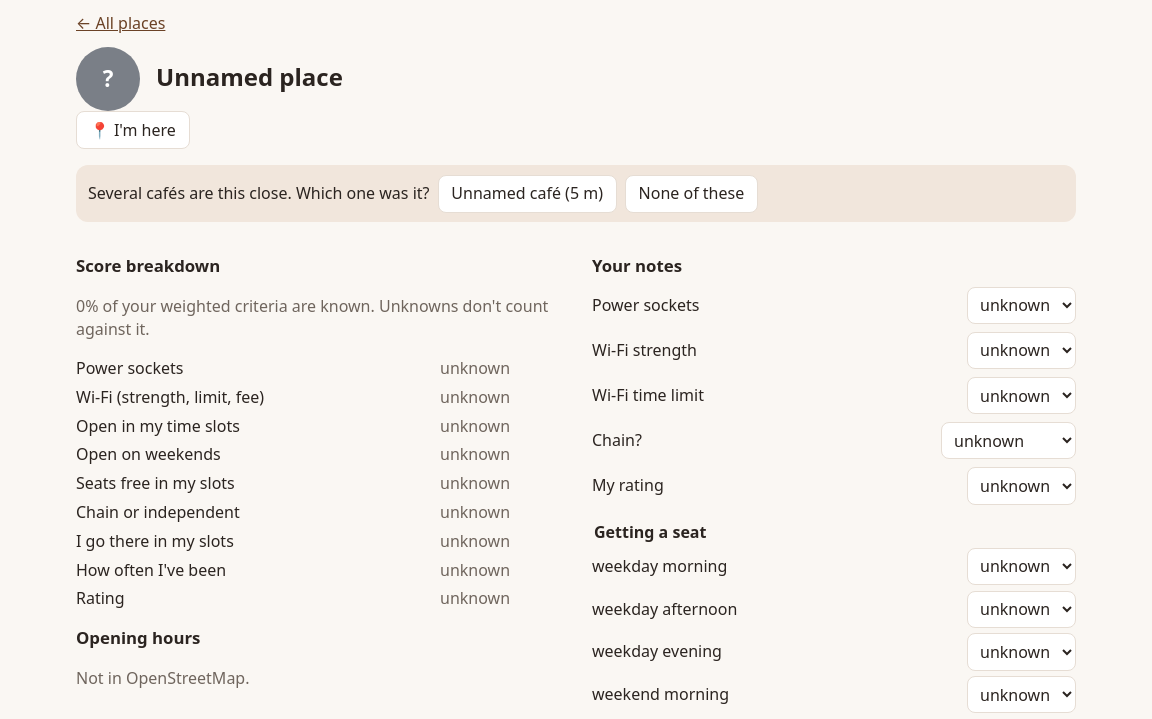
it: PlaceDetail › names an unnamed candidate generically
The width and height of the screenshot is (1152, 719).
What coordinates should you click on to do the following:
click the button "Unnamed café (5 m)"
I would click on:
 (527, 194)
Its box is [438, 175, 617, 213].
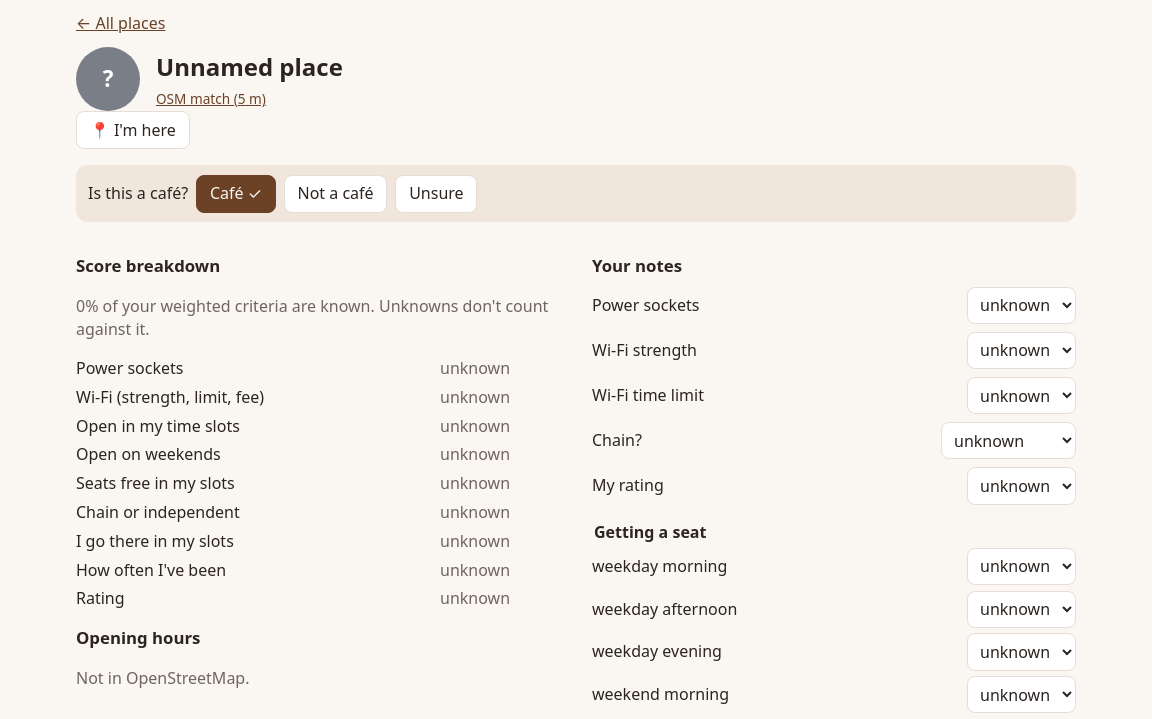
Now the button "Café ✓" is shown, box [196, 175, 276, 213]
